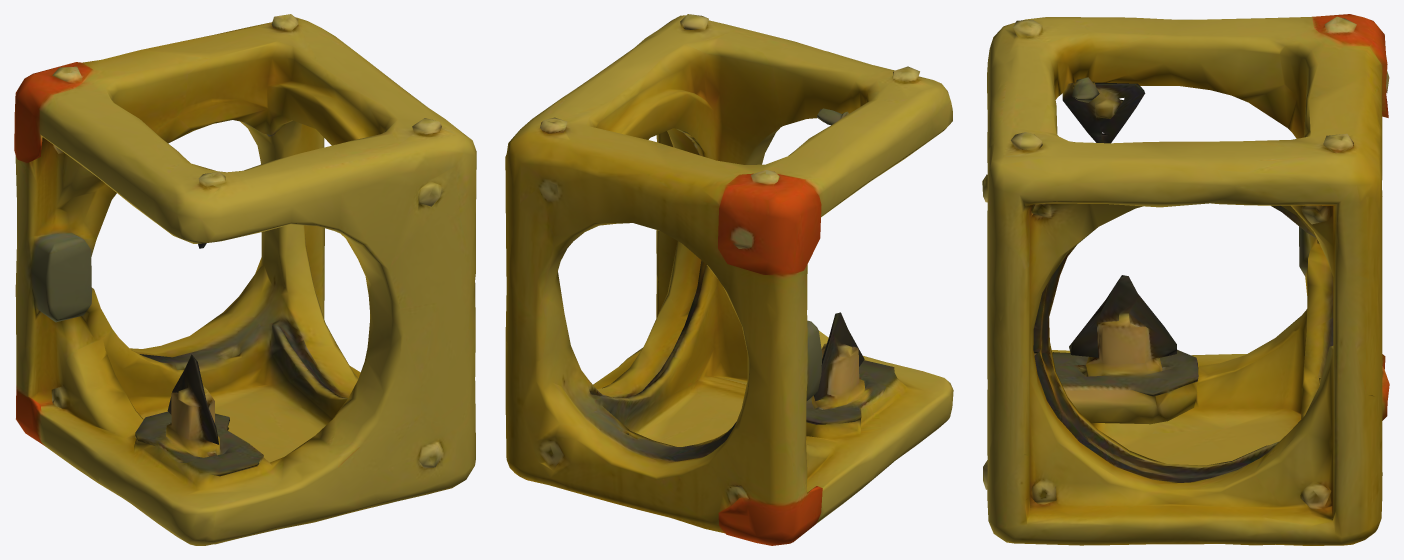
Rendered from fan.glb.
3 renders of one model, left to right at view 1: azimuth 30°, elevation 25°; view 2: azimuth 150°, elevation 25°; view 3: azimuth 270°, elevation 25°, orthographic. The views are drawn at different scales.
Visible parts, largest first — view 1: tripo_node_516ea017-0cb0-4e89-9ba1-04e01e06714e; view 2: tripo_node_516ea017-0cb0-4e89-9ba1-04e01e06714e; view 3: tripo_node_516ea017-0cb0-4e89-9ba1-04e01e06714e.
Boxes of the visible parts, <box> form: tripo_node_516ea017-0cb0-4e89-9ba1-04e01e06714e: <box>14,14,476,545</box>; tripo_node_516ea017-0cb0-4e89-9ba1-04e01e06714e: <box>505,14,953,545</box>; tripo_node_516ea017-0cb0-4e89-9ba1-04e01e06714e: <box>982,14,1389,545</box>.
Bounding box in the file's own units: 0.853 × 1 × 0.914.
1 material, 1 textured.
